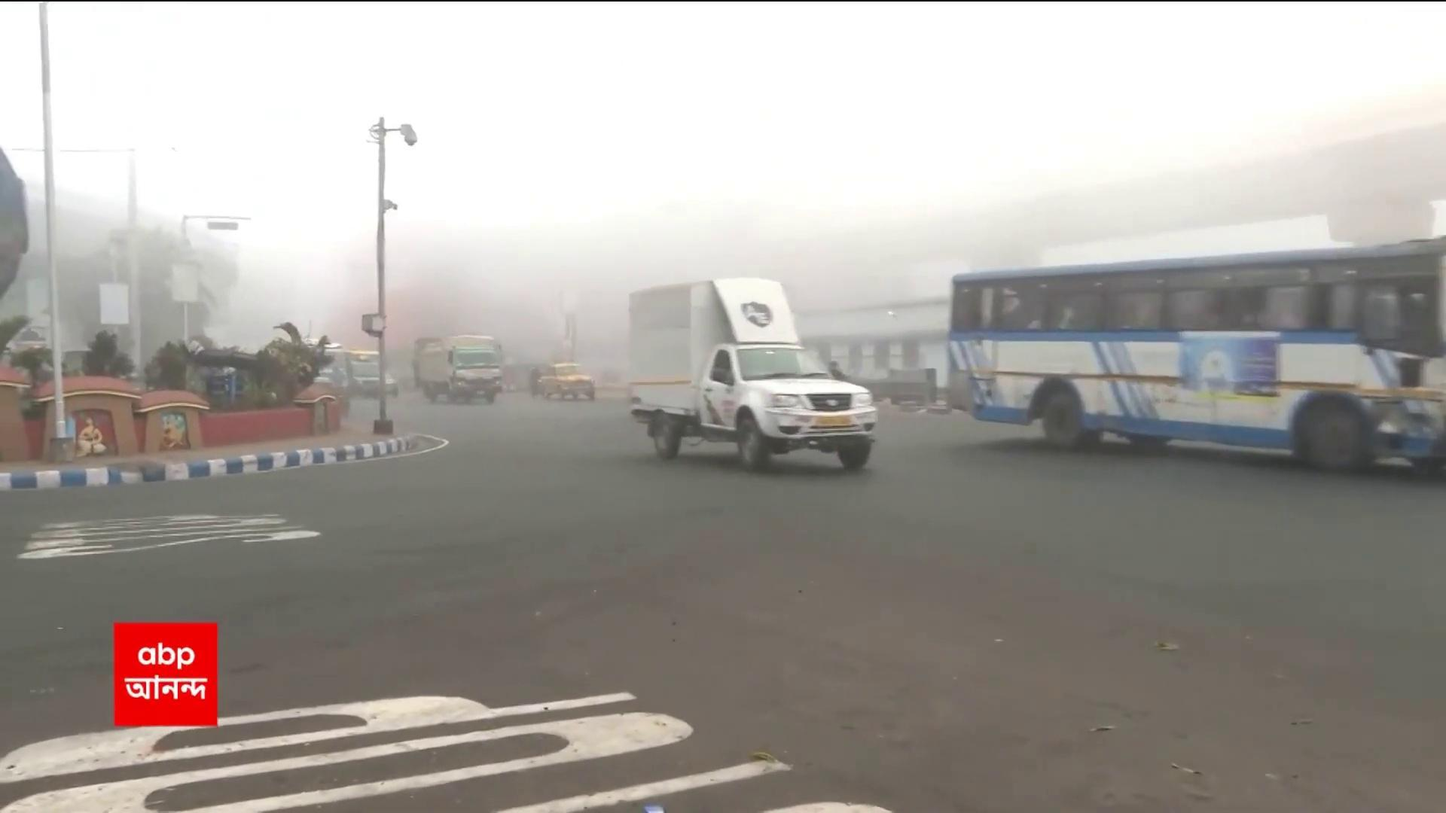Bus: (947, 230, 1446, 474)
Car: (538, 360, 597, 402)
Truck: (625, 273, 878, 474), (417, 334, 505, 403)
